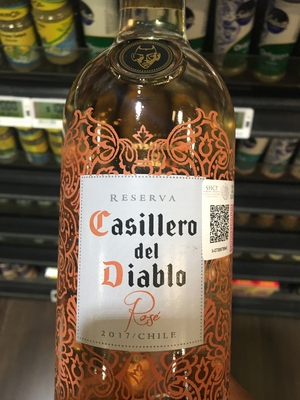casillero del diablo rose: (45, 10, 262, 396)
